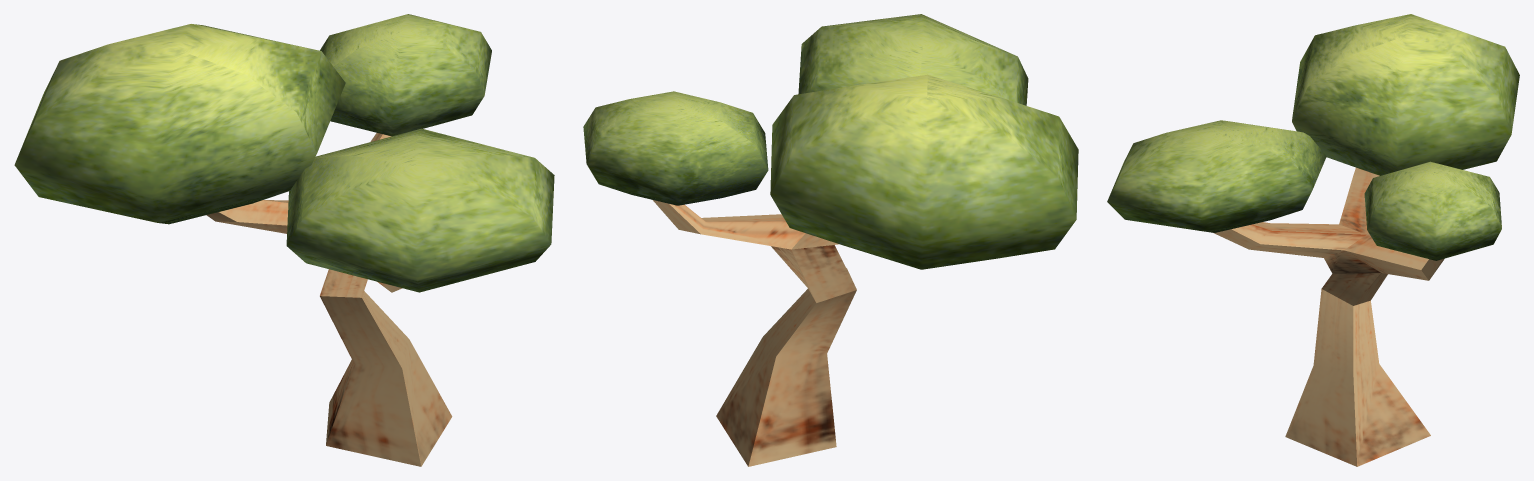
Rendered from birch tree.fbx.
3 renders of one model, left to right at view 1: azimuth 30°, elevation 25°; view 2: azimuth 150°, elevation 25°; view 3: azimuth 270°, elevation 25°, orthographic. The views are drawn at different scales.
Parts seen in each view (by area): view 1: polySurface6; view 2: polySurface6; view 3: polySurface6.
Part boxes in pixels (x1=…): polySurface6: x1=14, y1=14, x2=554, y2=466; polySurface6: x1=583, y1=14, x2=1078, y2=466; polySurface6: x1=1107, y1=14, x2=1519, y2=466.
Bounding box in the file's own units: 6.16 × 4.86 × 5.46.
